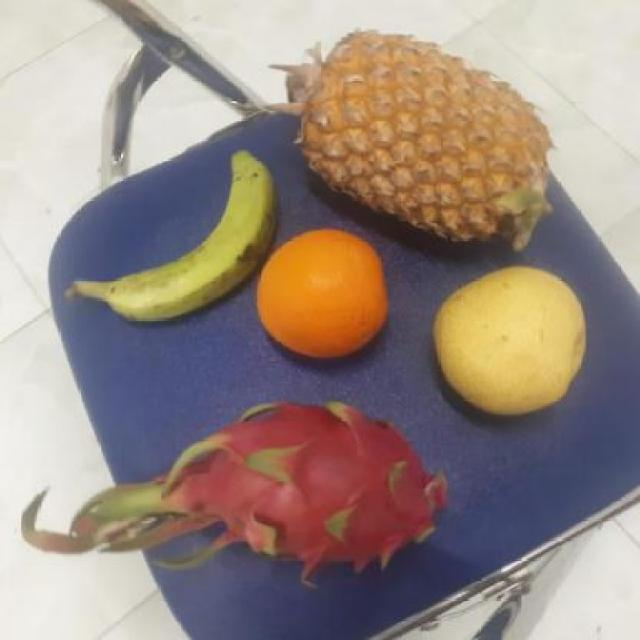banana: (94, 151, 286, 324)
dragon fruit: (175, 397, 470, 577)
guava: (434, 272, 594, 418)
pear: (256, 230, 393, 361)
pineapple: (301, 43, 554, 257)
